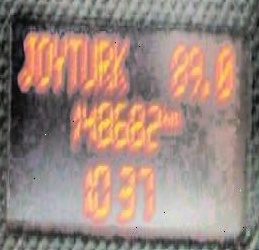-: (199, 76, 210, 102)
0: (213, 44, 234, 104), (91, 159, 111, 217)
1: (81, 164, 90, 217), (70, 100, 80, 143)
2: (144, 102, 160, 154)
3: (115, 162, 136, 224)
4: (79, 99, 96, 144)
6: (113, 97, 129, 148)
7: (136, 162, 154, 221)
8: (166, 40, 187, 97), (94, 97, 112, 148), (129, 101, 144, 150)
9: (187, 40, 204, 99)
X: (109, 35, 128, 94), (78, 35, 97, 94), (33, 30, 52, 89), (18, 29, 36, 89), (50, 32, 67, 91), (94, 37, 111, 92), (67, 34, 82, 92), (171, 105, 183, 130), (161, 100, 170, 130)
